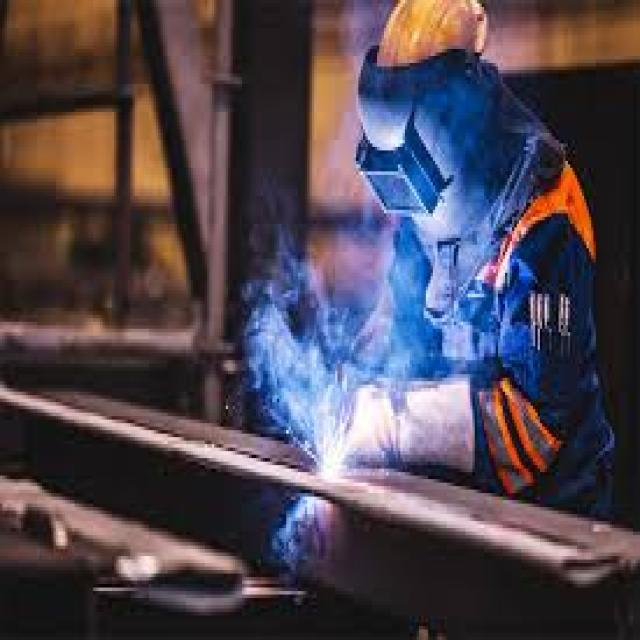welding: (318, 442, 348, 475)
